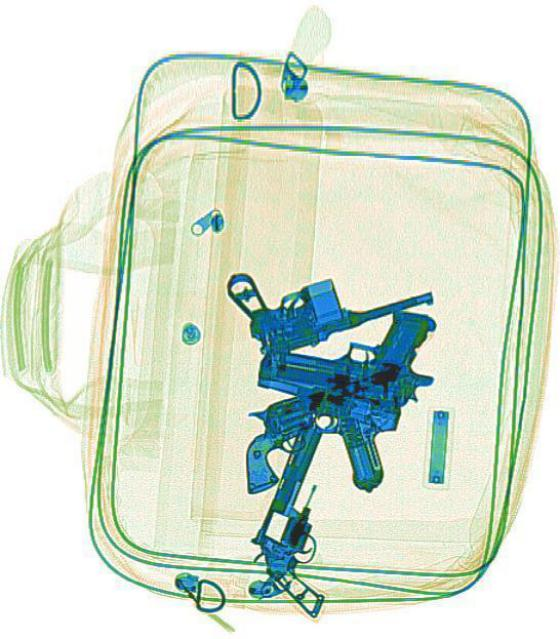Gun: (221, 220, 435, 365), (230, 415, 376, 622), (251, 274, 445, 429), (226, 361, 427, 492), (235, 357, 403, 494)
